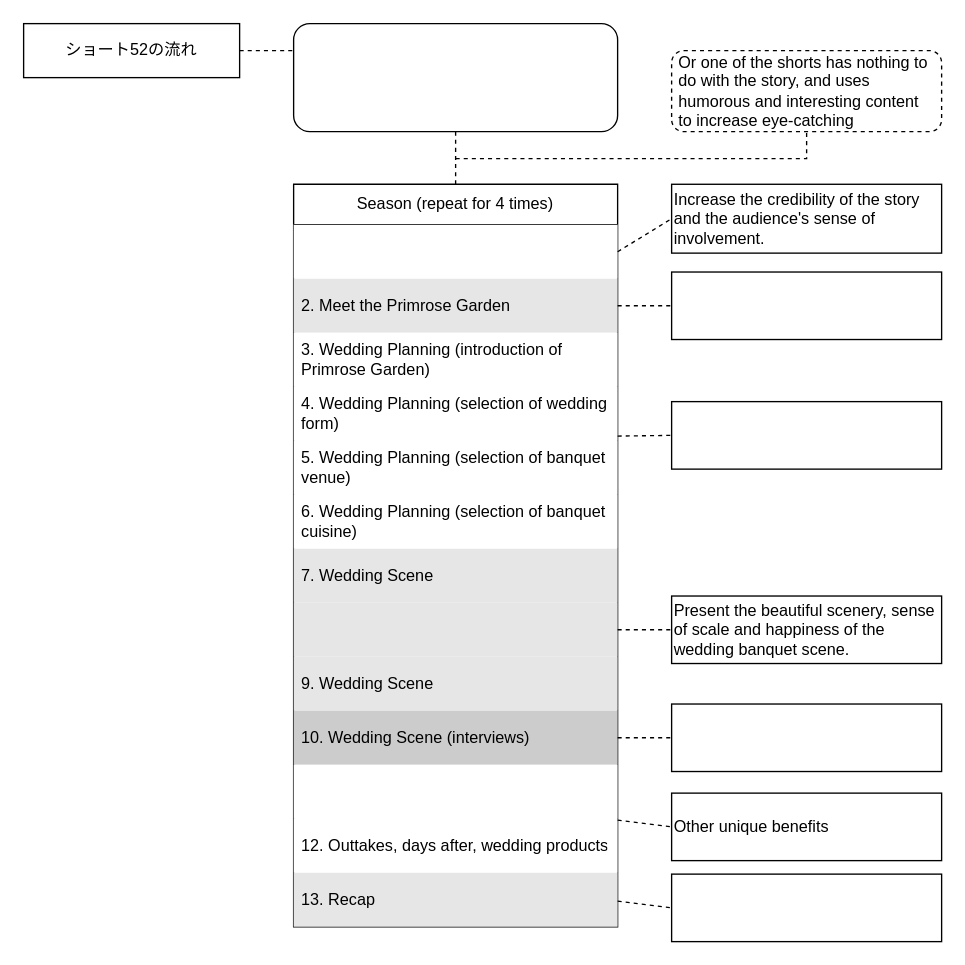
Some shapes in this 965 by 965 pixel diagram are drawn without their labels. Here are the shapes that lost their labels. From the top down, the centre of each, then its label:
the point at 455,77: ショート52： if Short=30s Total: 1560s=26mins For 4 seasons： 12 shorts + 1 recap
the point at 455,251: 1. Background introduction or even dating
the point at 806,305: Introduce the media or method that can contact or learn about Primrose Garden.
the point at 806,434: Introduction of business content, flow, and staff.
the point at 455,629: 8. Wedding Scene
the point at 806,737: Participants' impressions and interviews (increasing the credibility )
the point at 455,791: 11. Bloopers, days after, wedding products
the point at 806,907: Filing like an actual case record
